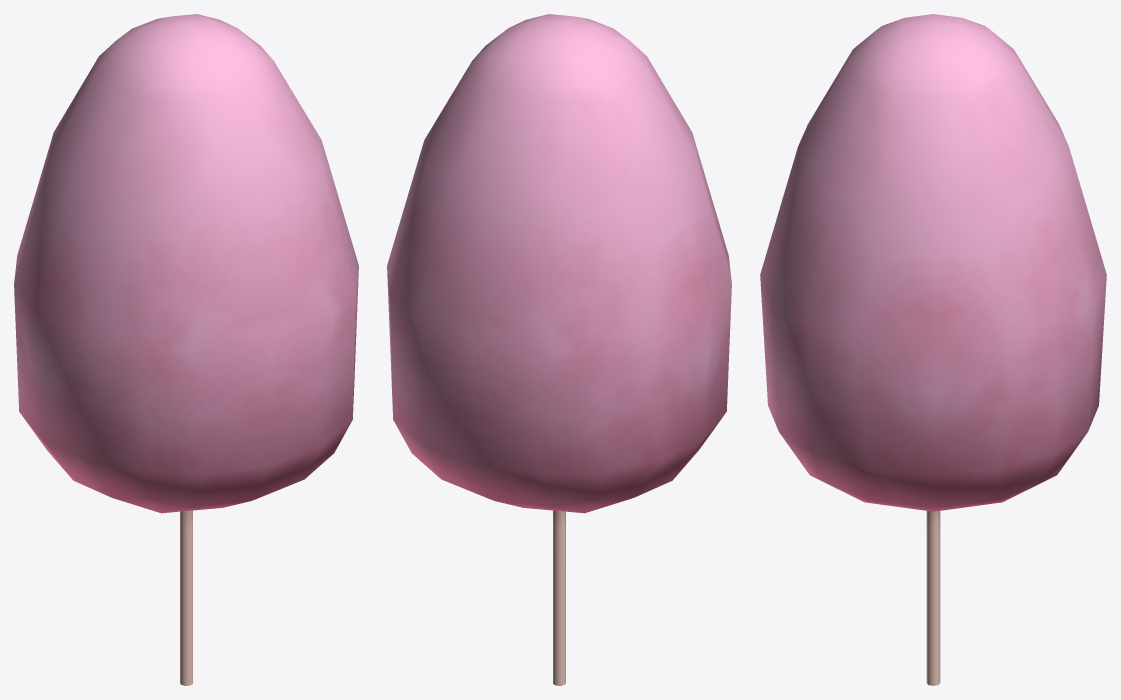
Rendered from tree_cottoncandy1.glb.
3 views of the same model, side by side, from view 1: azimuth 30°, elevation 25°; view 2: azimuth 150°, elevation 25°; view 3: azimuth 270°, elevation 25° (orthographic).
Parts seen in each view (by area): view 1: Cotton Candy, Stick; view 2: Cotton Candy, Stick; view 3: Cotton Candy, Stick.
Boxes of the visible parts, left/top/right/bottom form: Cotton Candy: left=14, top=14, right=358, bottom=513; Stick: left=180, top=510, right=192, bottom=685; Cotton Candy: left=387, top=14, right=731, bottom=513; Stick: left=553, top=510, right=565, bottom=685; Cotton Candy: left=760, top=14, right=1106, bottom=511; Stick: left=926, top=511, right=940, bottom=685.
Bounding box in the file's own units: 1.64 × 3.44 × 1.64.
1 material, 1 textured.
